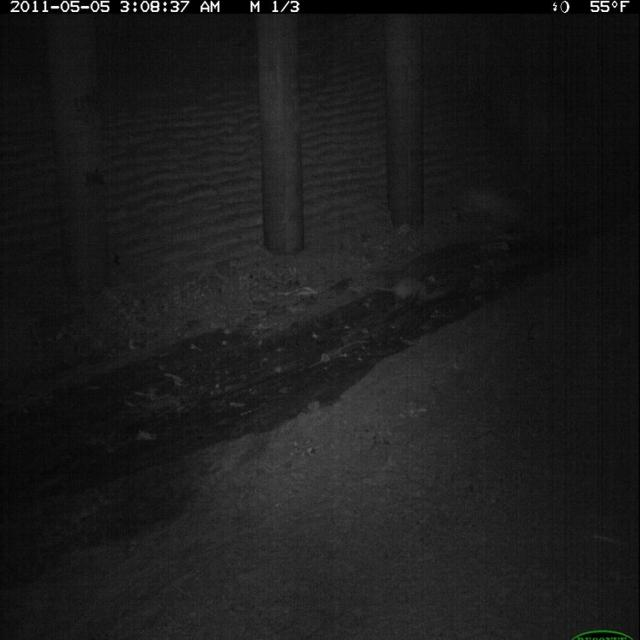opossum: (373, 271, 444, 311)
